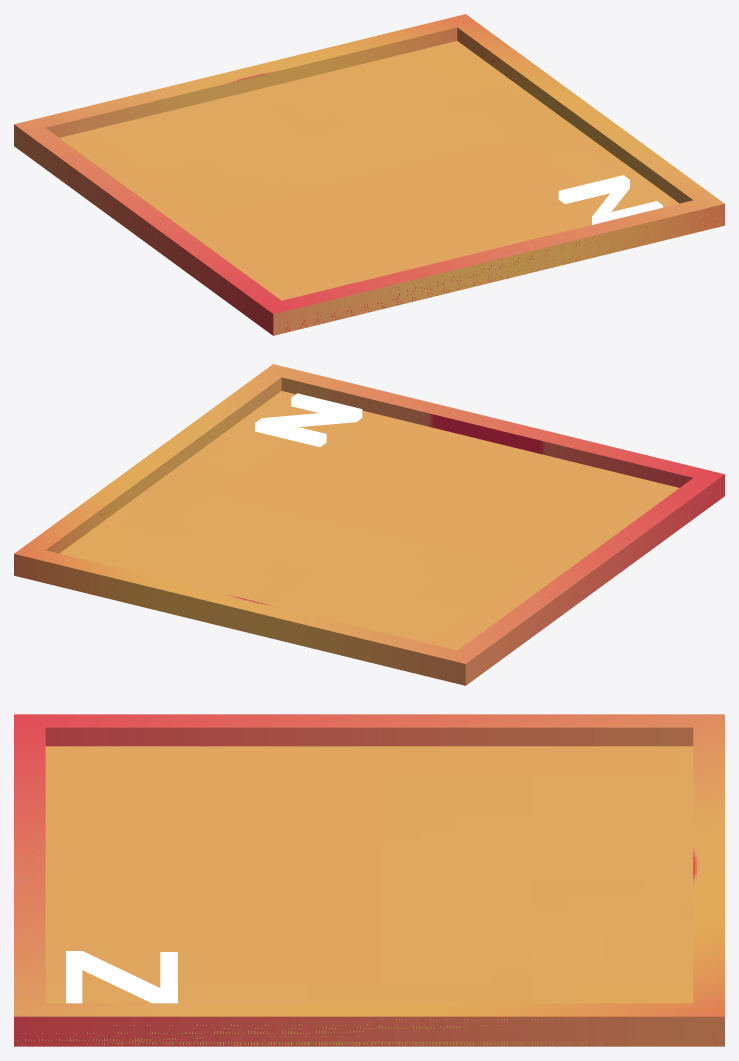
Rendered from BGplate.glb.
3 views of the same model, one above another, from view 1: azimuth 30°, elevation 25°; view 2: azimuth 150°, elevation 25°; view 3: azimuth 270°, elevation 25° (orthographic). The views are drawn at different scales.
Visible parts, largest first — view 1: bgplate; view 2: bgplate; view 3: bgplate.
Part boxes in pixels (x1,y1,x2,y2): bgplate: (14,14,724,335); bgplate: (14,364,724,685); bgplate: (14,714,724,1046).
Size of the model in its own units: 3.47 by 0.1605 by 3.45.
Materials: 2 (1 with a texture image).
